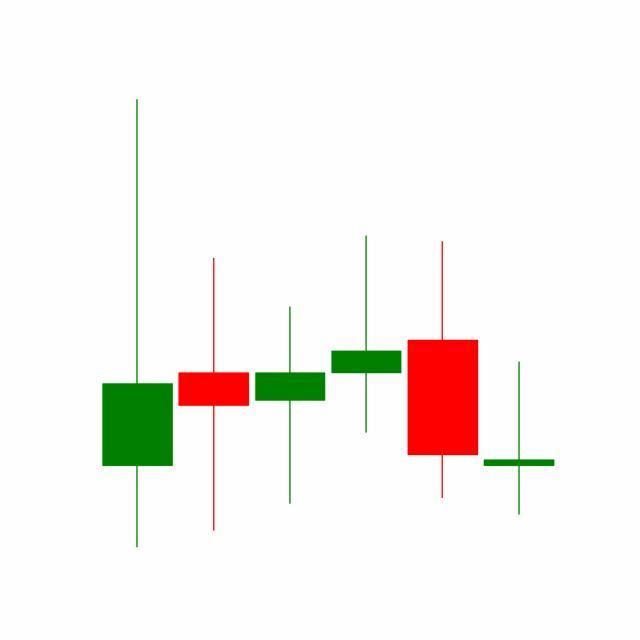Three Outside Up-Down: (326, 233, 555, 519)
